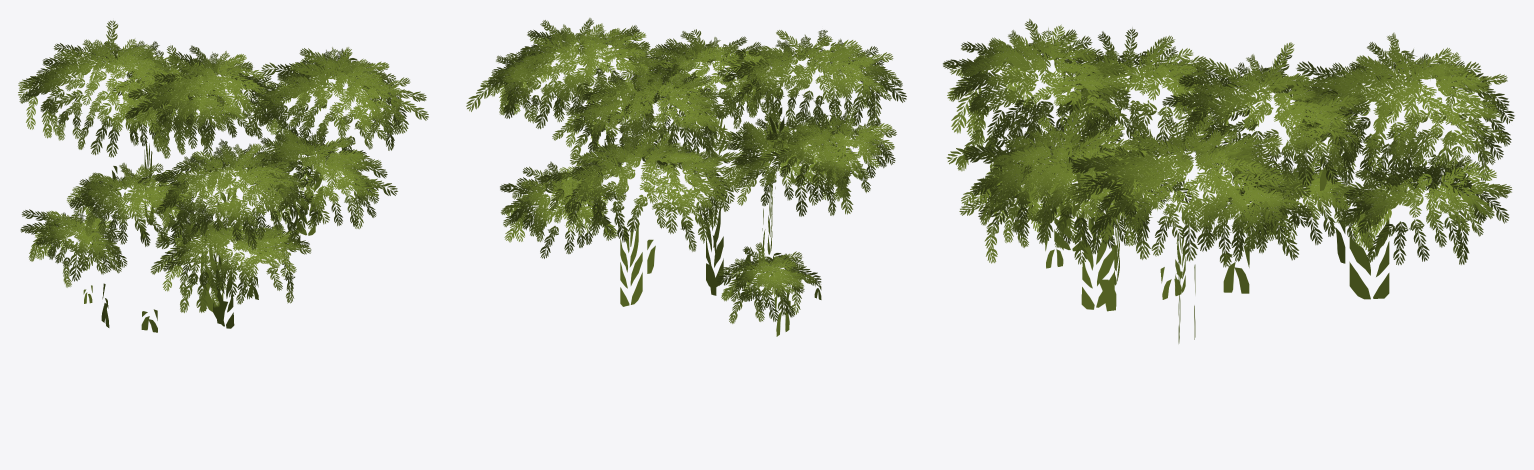
The model's file is swp_Env_Tree_Swamp_03.glb.
3 renders of one model, left to right at view 1: azimuth 30°, elevation 25°; view 2: azimuth 150°, elevation 25°; view 3: azimuth 270°, elevation 25°, orthographic. The views are drawn at different scales.
Parts seen in each view (by area): view 1: SM_Env_Tree_Swamp_03_LOD0, SM_Env_Tree_Swamp_03_MOSS_LOD0; view 2: SM_Env_Tree_Swamp_03_LOD0, SM_Env_Tree_Swamp_03_MOSS_LOD0; view 3: SM_Env_Tree_Swamp_03_LOD0, SM_Env_Tree_Swamp_03_MOSS_LOD0.
Boxes of the visible parts, x1,y1,x2,y2 form: SM_Env_Tree_Swamp_03_LOD0: [18, 20, 428, 312]; SM_Env_Tree_Swamp_03_MOSS_LOD0: [83, 142, 322, 332]; SM_Env_Tree_Swamp_03_LOD0: [466, 18, 906, 323]; SM_Env_Tree_Swamp_03_MOSS_LOD0: [604, 98, 832, 336]; SM_Env_Tree_Swamp_03_LOD0: [943, 19, 1514, 267]; SM_Env_Tree_Swamp_03_MOSS_LOD0: [1045, 122, 1389, 343].
Bounding box in the file's own units: 11.29 × 10.68 × 12.23.
1 material, 1 textured.
